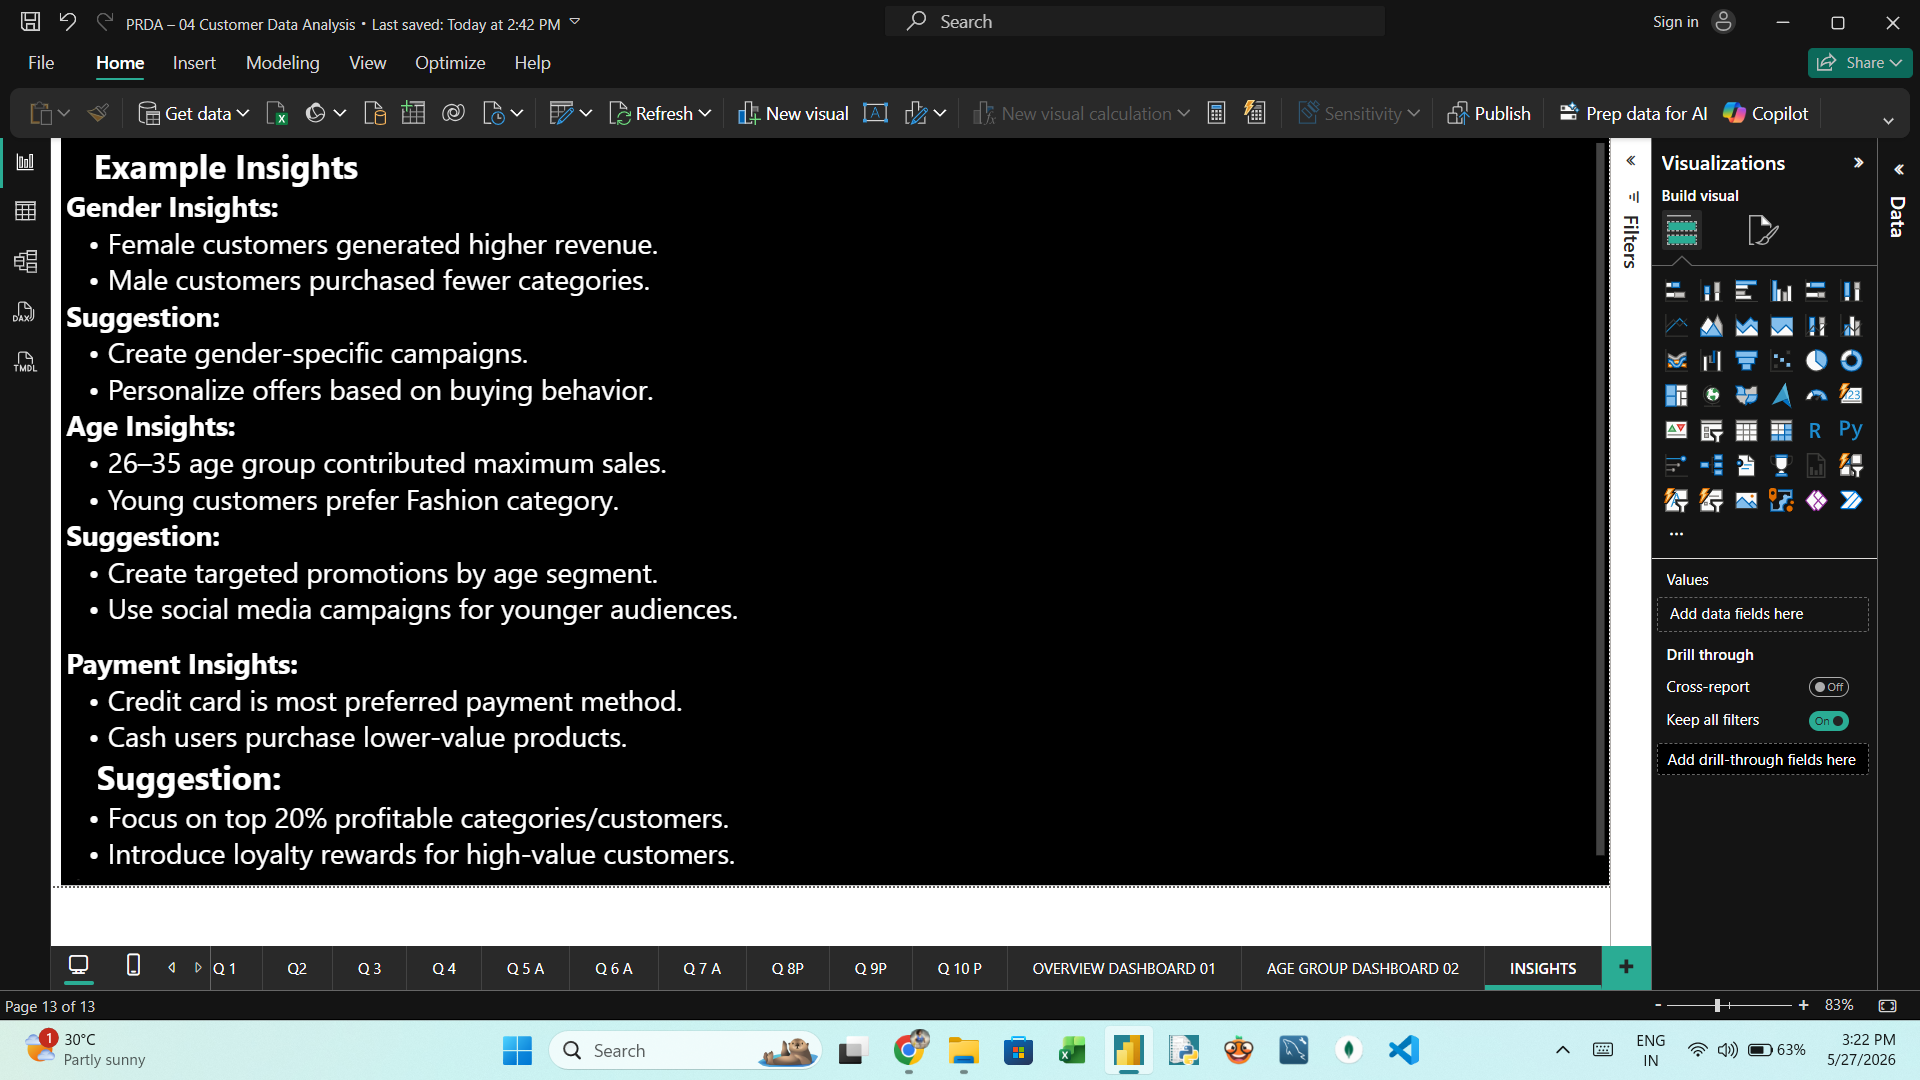

The page's visual inventory and layout, read from the dashboard file:
{"tool":"powerbi","page":{"name":"INSIGHTS","canvas":[1500,720],"ordinal":12},"visuals":[{"type":"textbox","box":[9.6,0,1490.6,719.4],"z":0}]}

Visuals, with their boxes on the page's 1500x720 design canvas (x1, y1, x2, y2). These are canvas units, not pixel positions in the 1920x1080 screenshot, which may show the page scaled, cropped or inside an application window:
textbox: bbox(10, 0, 1500, 719)
